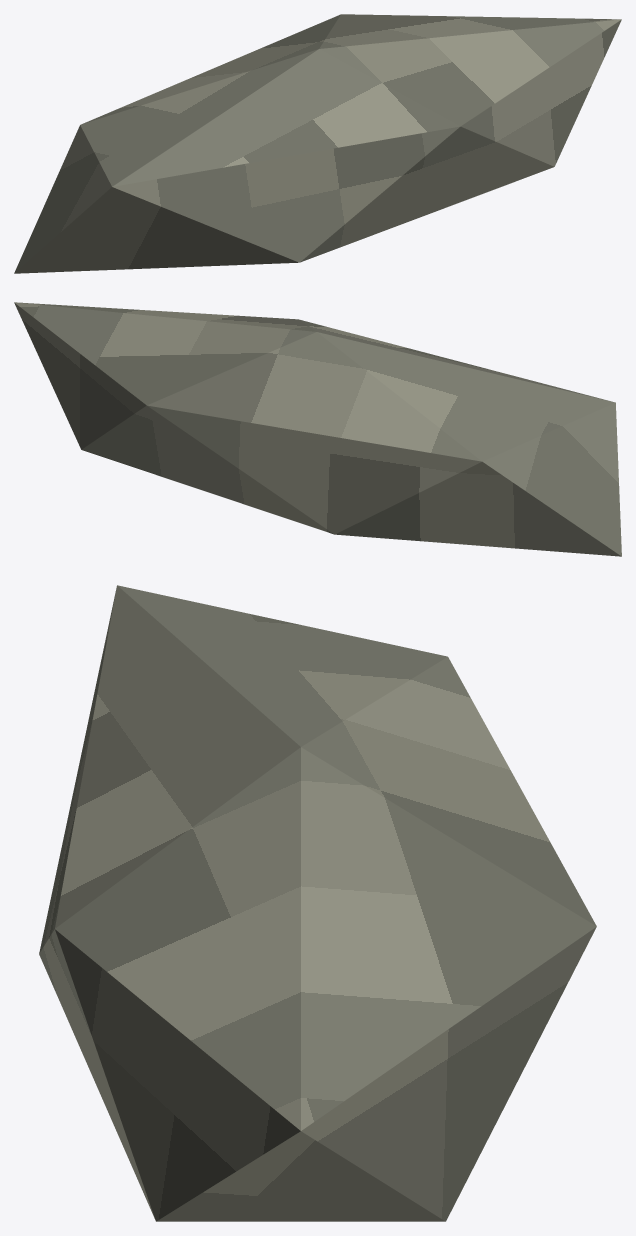
File: Rock_2.fbx
3 renders of one model, top to bottom at view 1: azimuth 30°, elevation 25°; view 2: azimuth 150°, elevation 25°; view 3: azimuth 270°, elevation 25°, orthographic. The views are drawn at different scales.
Visible parts, largest first — view 1: Rock_2; view 2: Rock_2; view 3: Rock_2.
Boxes of the visible parts, x1=… form: Rock_2: x1=14, y1=14, x2=621, y2=273; Rock_2: x1=14, y1=302, x2=621, y2=556; Rock_2: x1=39, y1=585, x2=596, y2=1221.
Size of the model in its own units: 278 by 82.6 by 110.
Materials: 1 (1 with a texture image).
